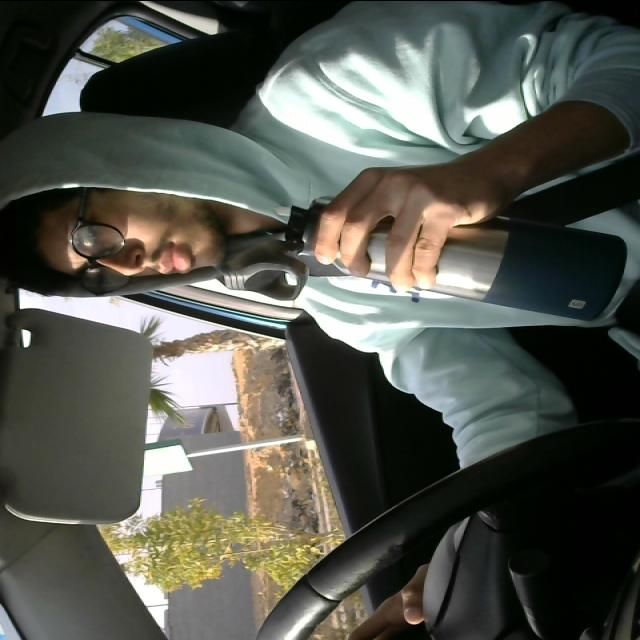drinking: (218, 192, 626, 326)
